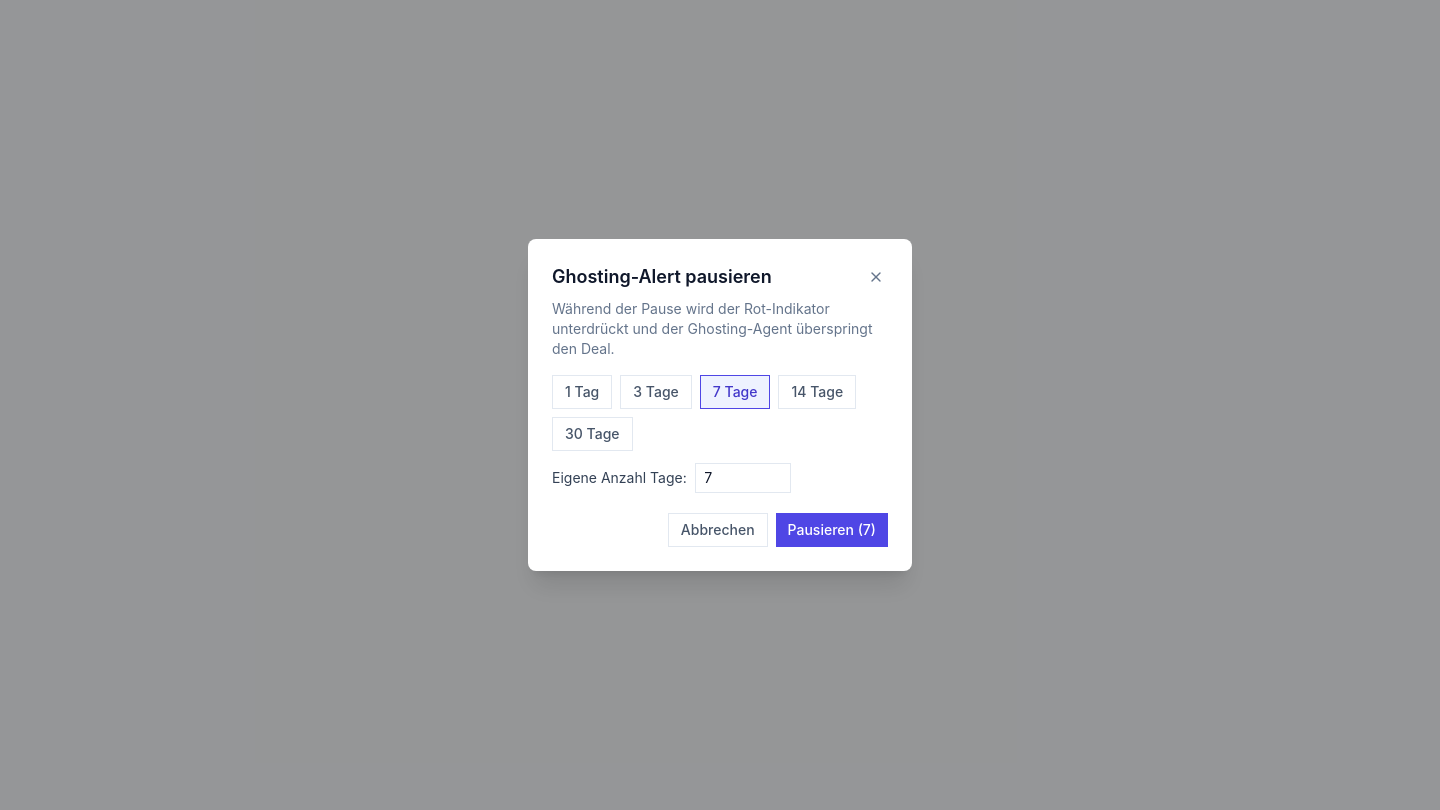
Test: SnoozeGhostingModal › updates days when a preset is clicked
What coordinates should you click on to do the following:
click the button "30 Tage"
I would click on:
 (592, 434)
Its box is [552,417,632,451].
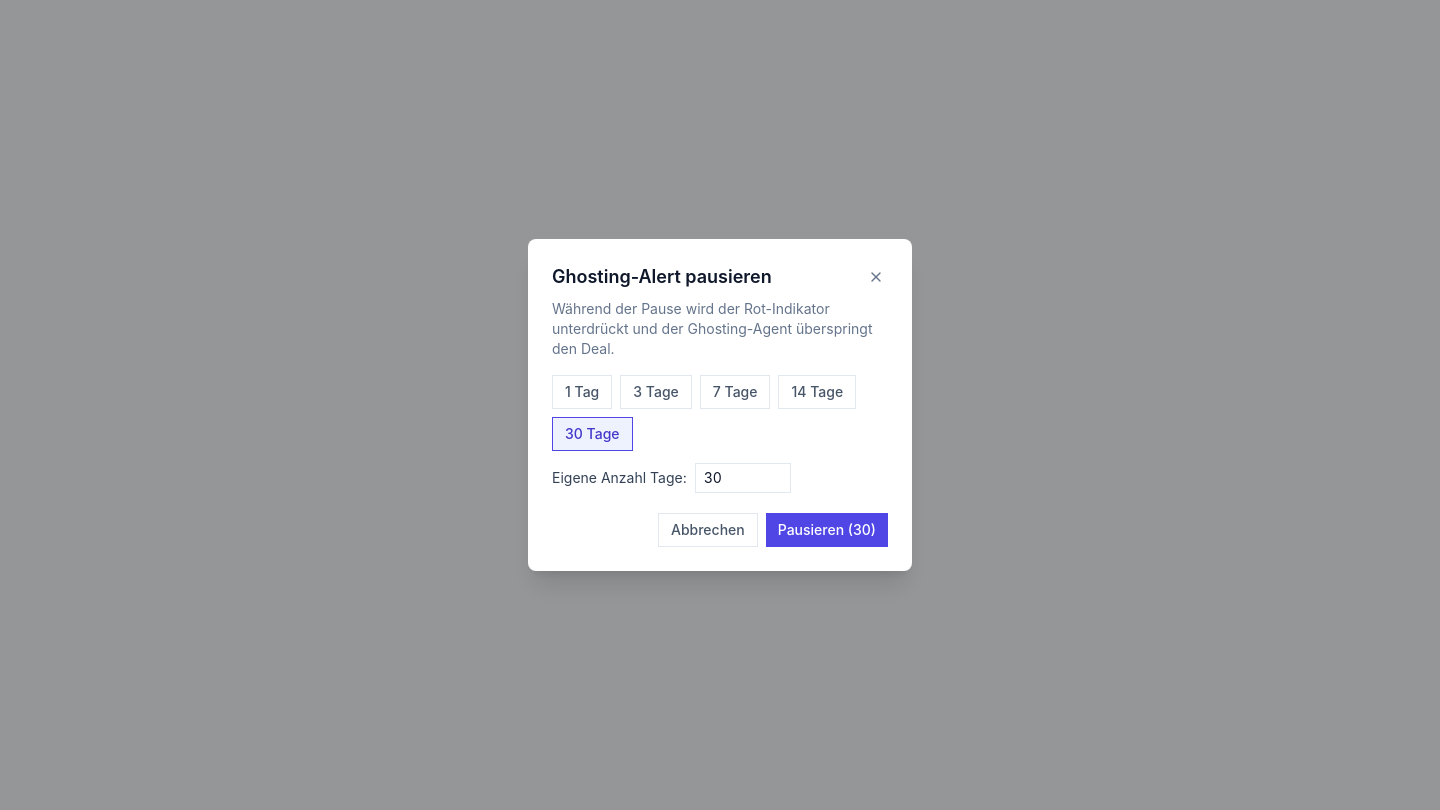
Now the button "Pausieren (30)" is shown, box [766,513,888,547]
